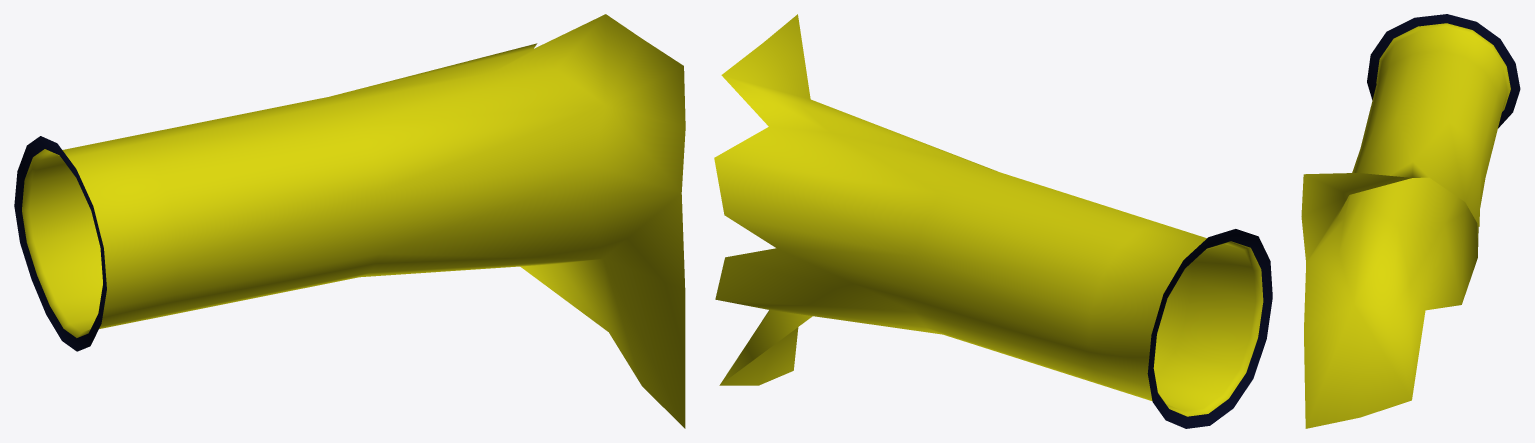
File: R_arm.obj
The picture shows the model from 3 angles, left to right: view 1: azimuth 30°, elevation 25°; view 2: azimuth 150°, elevation 25°; view 3: azimuth 270°, elevation 25°; orthographic projection. The views are drawn at different scales.
Visible parts, largest first — view 1: pasted__polySurface4 minion_all1:Mesh group; view 2: pasted__polySurface4 minion_all1:Mesh group; view 3: pasted__polySurface4 minion_all1:Mesh group.
Part boxes in pixels (box(x1,y1,x2,y2)): pasted__polySurface4 minion_all1:Mesh group: box(14, 14, 685, 428); pasted__polySurface4 minion_all1:Mesh group: box(714, 14, 1272, 428); pasted__polySurface4 minion_all1:Mesh group: box(1301, 14, 1520, 428).
Bounding box in the file's own units: 0.8702 × 0.5675 × 0.4436.
